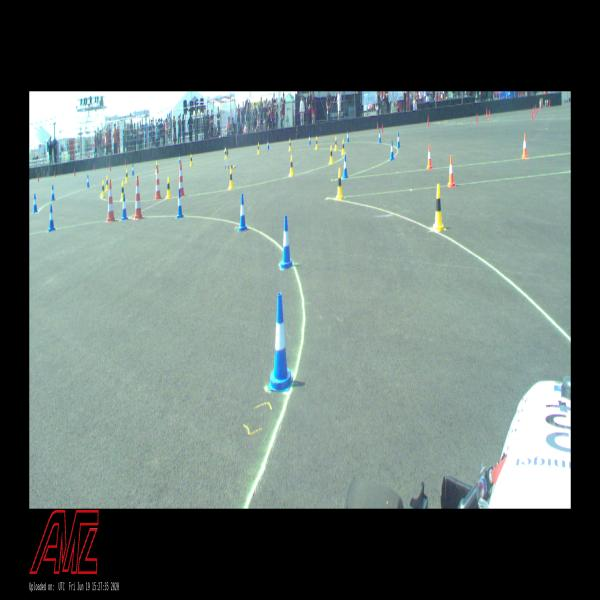blue_cone: (268, 292, 293, 391), (280, 214, 293, 270), (238, 194, 248, 232), (49, 205, 56, 231), (177, 189, 183, 218), (122, 194, 128, 220), (343, 155, 348, 178), (33, 194, 38, 212), (390, 140, 394, 160), (52, 185, 56, 200), (397, 132, 400, 148), (378, 130, 381, 143), (87, 175, 90, 187), (308, 134, 311, 145), (267, 139, 270, 149), (132, 164, 134, 175), (347, 131, 349, 142), (179, 154, 181, 164), (224, 146, 226, 156)
large_orange_cone: (132, 176, 144, 219), (106, 180, 116, 222), (154, 166, 161, 200), (178, 162, 185, 196)
orange_cone: (447, 155, 456, 187), (427, 145, 433, 169), (522, 134, 528, 158)
unknown_cone: (532, 109, 534, 120), (54, 169, 56, 176)
yellow_cone: (432, 184, 446, 231), (335, 168, 343, 200), (228, 167, 234, 190), (288, 155, 294, 177), (166, 177, 172, 199), (101, 180, 106, 198), (120, 182, 124, 202), (329, 144, 333, 163), (341, 139, 345, 155), (125, 169, 129, 183), (106, 176, 109, 191), (315, 136, 318, 150), (334, 137, 337, 151), (190, 154, 193, 166), (257, 143, 260, 154), (155, 162, 157, 174), (289, 139, 291, 151), (225, 148, 226, 159)
